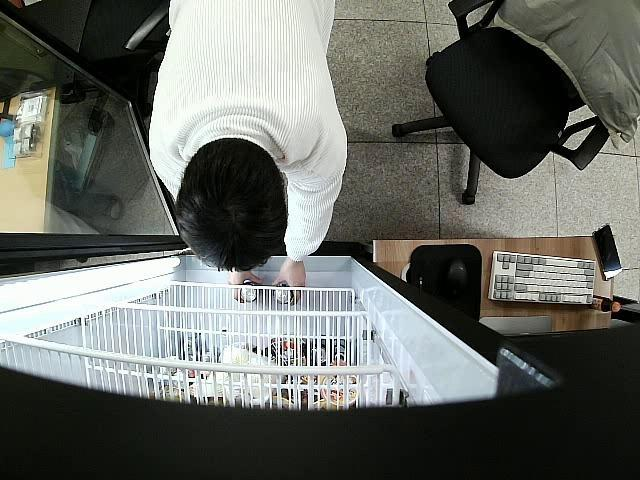14_welchsGrape: (237, 280, 261, 304), (272, 282, 294, 306)
